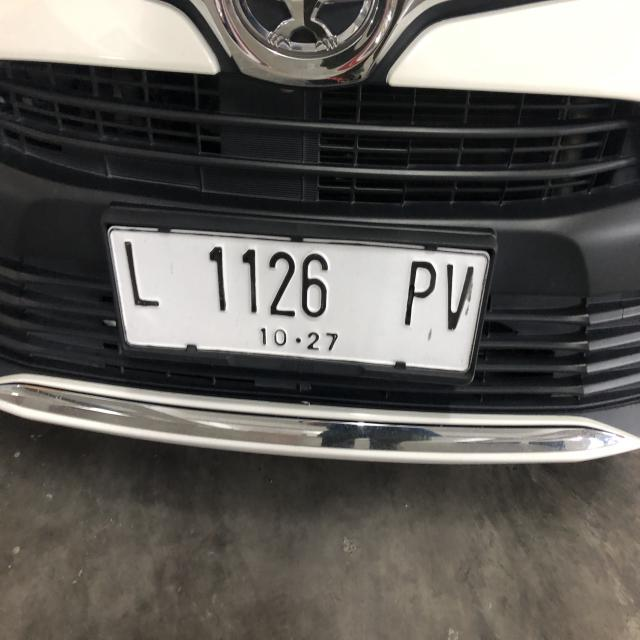1: (204, 236, 235, 318), (239, 240, 262, 322)
2: (270, 248, 296, 318)
6: (300, 248, 332, 324)
L: (117, 235, 162, 316)
P: (404, 258, 438, 336)
V: (446, 259, 472, 331)
